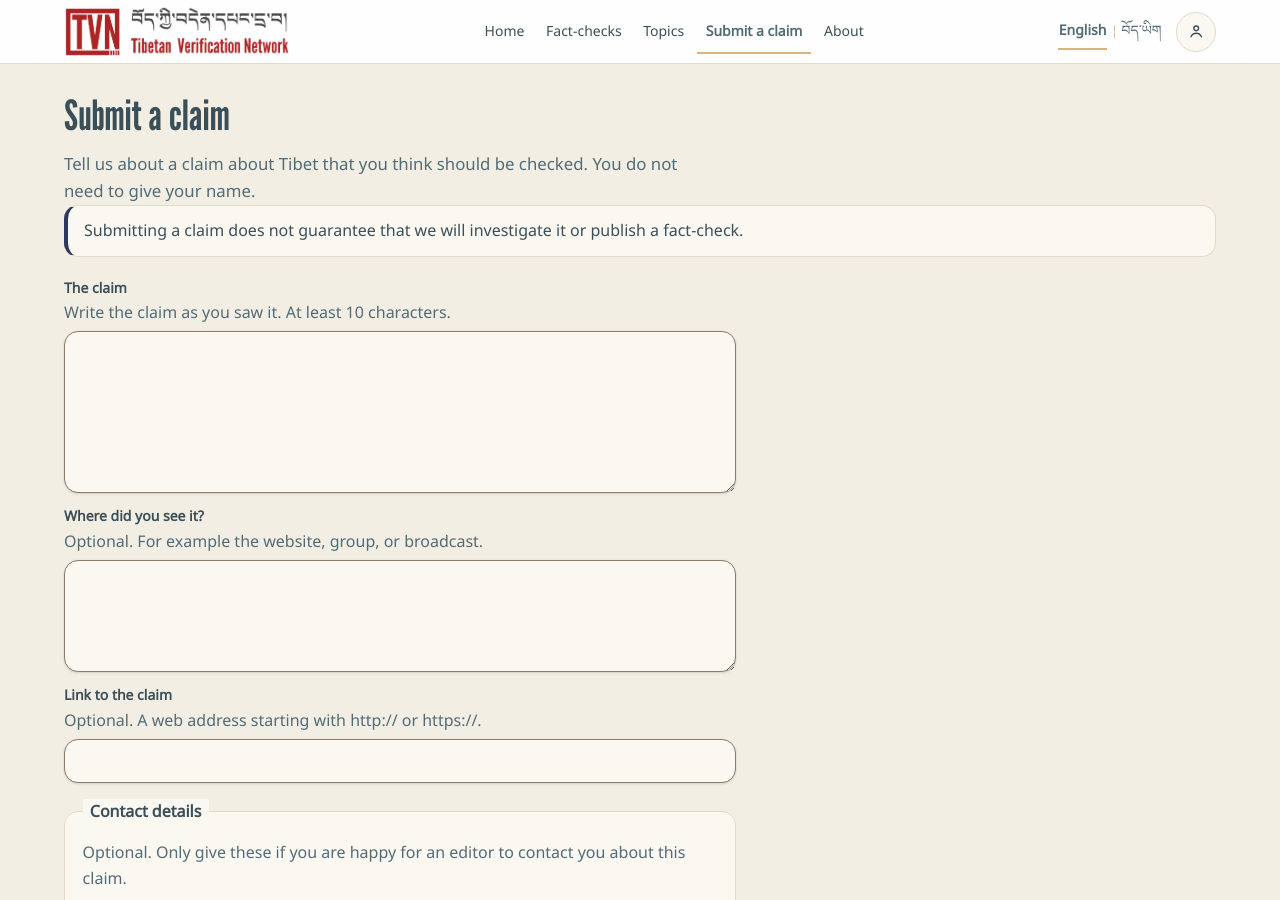
Scenario: submit page › reports a service failure and keeps what the visitor typed
The image size is (1280, 900).
Step 1. Type "The river stops flowing every winter." into the text box labelled "The claim" → [400, 412], box [64,331,736,493]
(page scrolled)
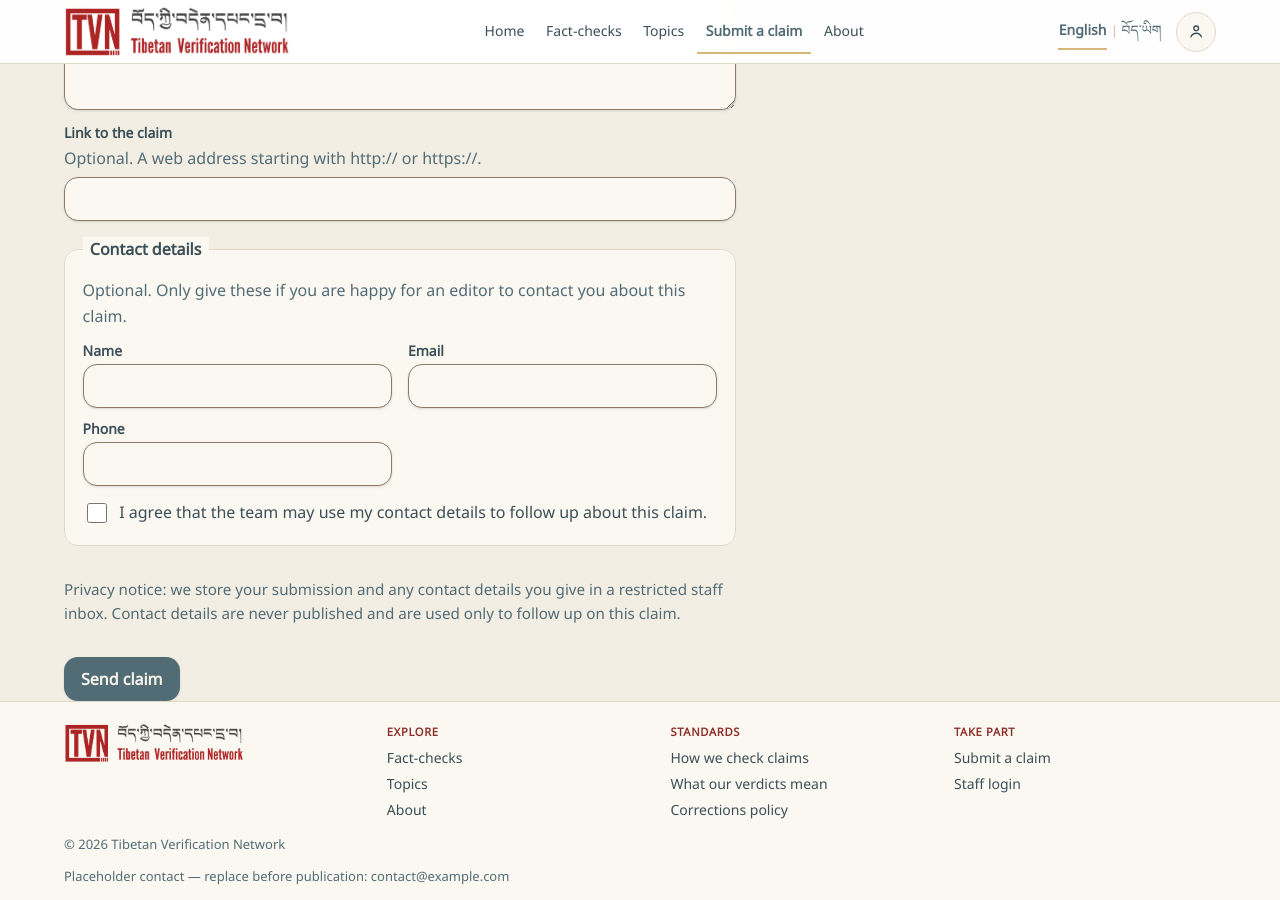
Step 2. Click the button "Send claim" → [122, 679], box [64,657,180,701]
(page scrolled)
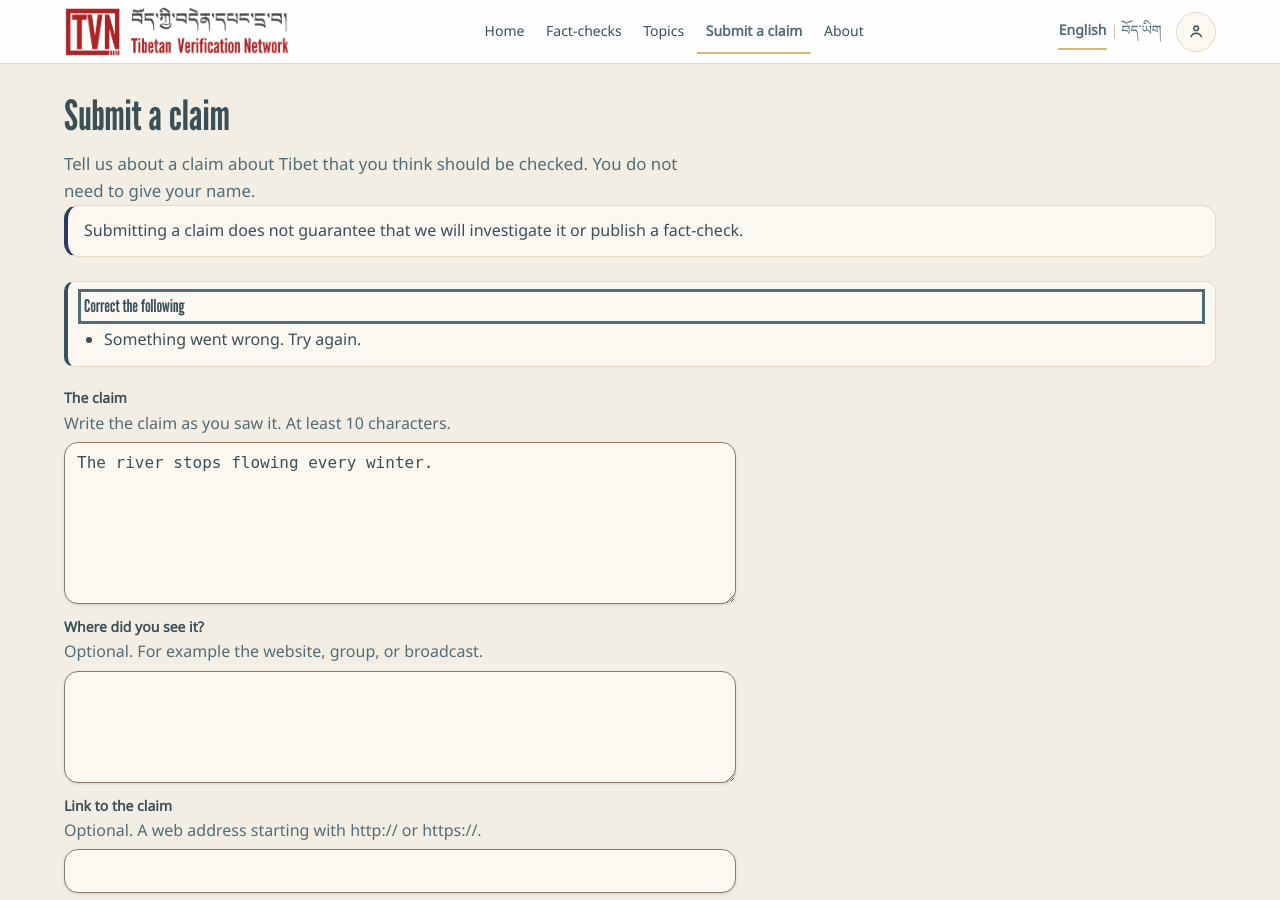
Check: the list item "Something went wrong. Try again." is shown, box [104,328,361,350]
